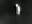person: (16, 4, 23, 17)
